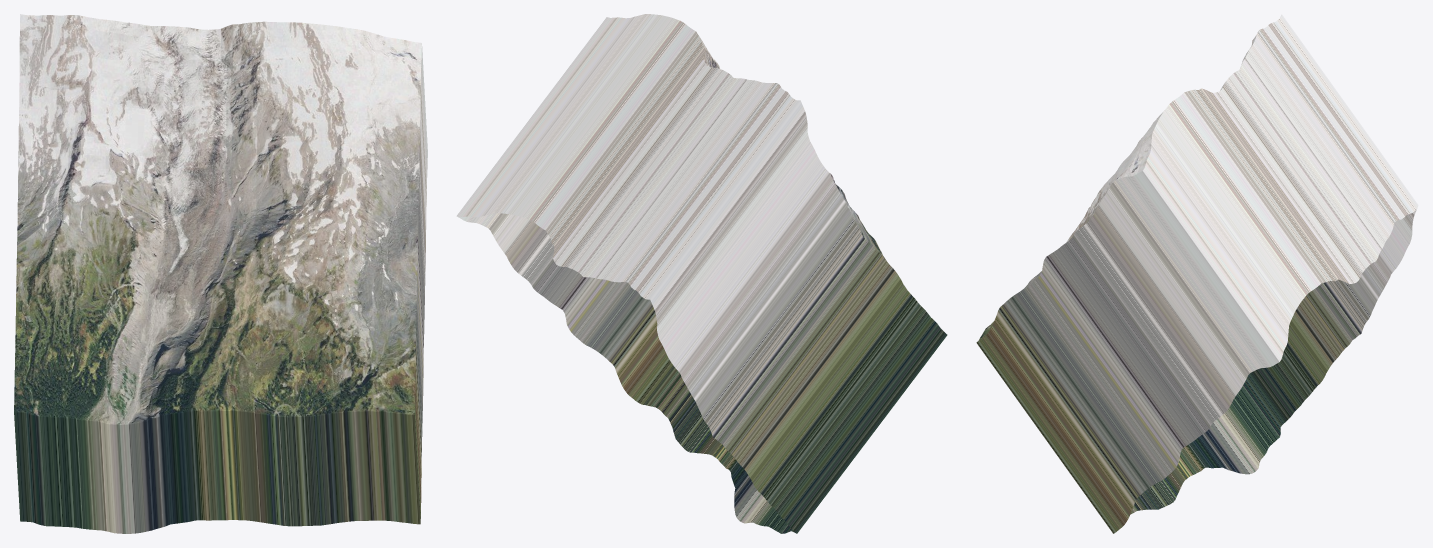
3 views of the same model, side by side, from view 1: azimuth 30°, elevation 25°; view 2: azimuth 150°, elevation 25°; view 3: azimuth 270°, elevation 25° (orthographic). The views are drawn at different scales.
Size of the model in its own units: 5849 by 5962 by 5639.
1 material, 1 textured.
